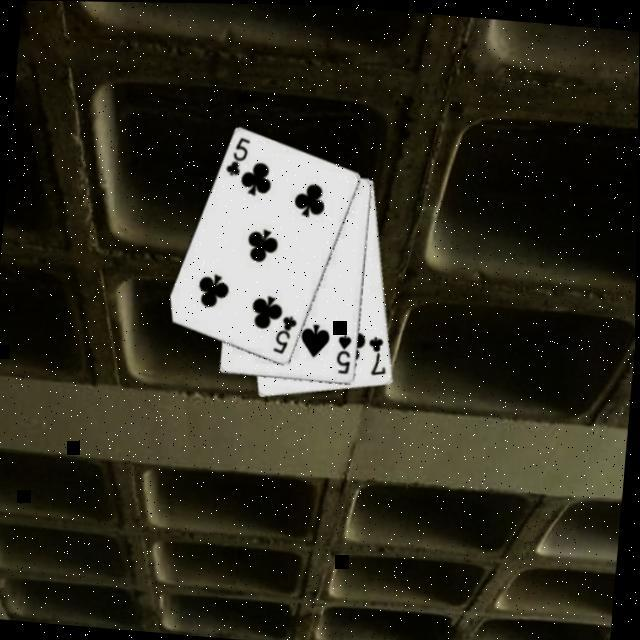5C: (270, 310, 300, 356), (222, 132, 252, 178)
5S: (332, 329, 354, 374)
7C: (364, 331, 392, 376)
